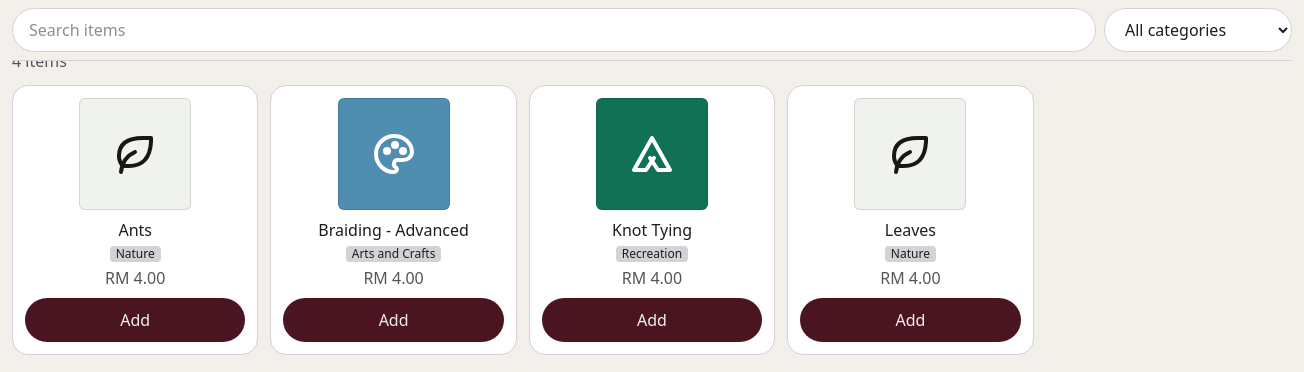
Scenario: Catalogue › search and category filter › shows only matching rows for "knot" and counts them
This screenshot has width=1304, height=372.
Expected: the text "Ants" is shown, x1=118 y1=218 x2=152 y2=242
Type "knot" into the search field labelled "Search items" at (554, 30), box x1=12 y1=8 x2=1096 y2=52
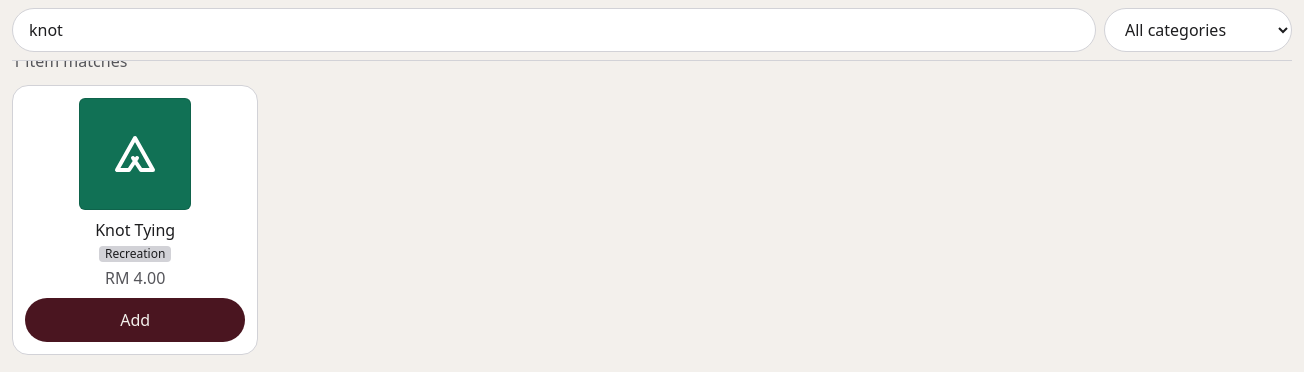
Expected: the text "Knot Tying" is shown, x1=95 y1=218 x2=175 y2=242
Expected: the text "Leaves" is gone
Expected: the text "1 item matches" is shown, x1=12 y1=50 x2=127 y2=72
